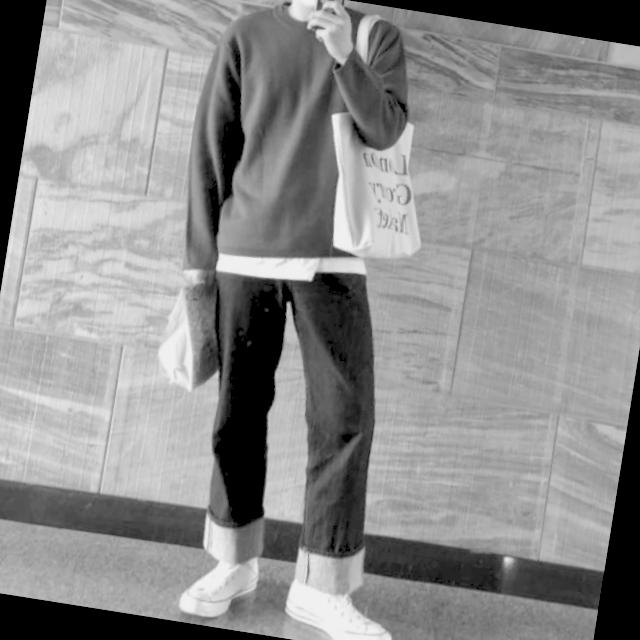denimpants: (173, 242, 416, 598)
mtm: (171, 0, 422, 301)
